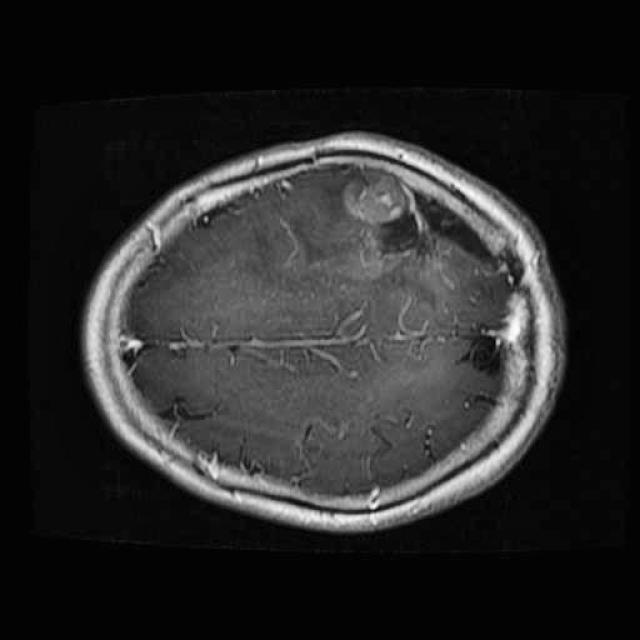Tumor: (332, 147, 499, 282)
